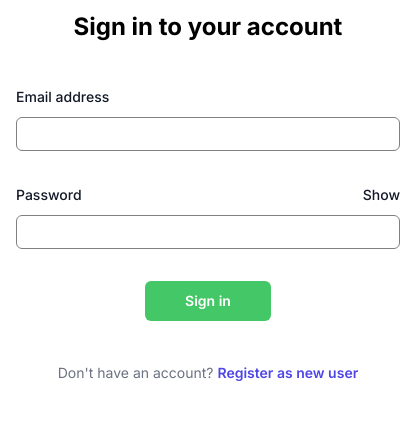
Scenario: Login › should display error message when invalid credentials are entered
In the field labelled "Email address": (208, 134) [16, 117, 400, 151], type "test@example.com"
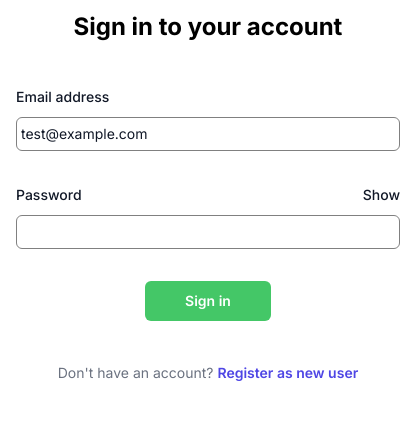
In the password field labelled "Password": (208, 232) [16, 215, 400, 249], type "password123"
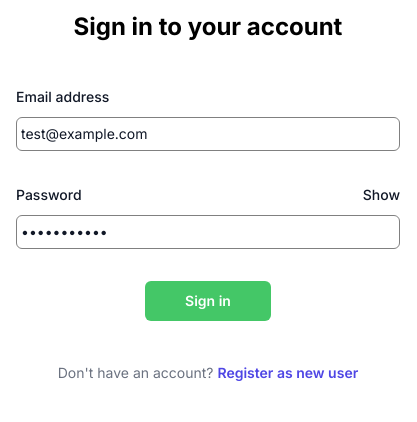
Click the button "Sign in": (208, 301) [145, 281, 271, 321]
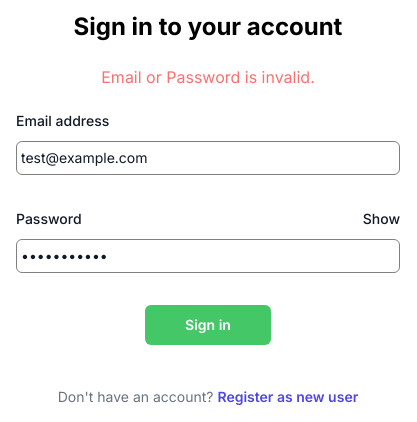
Expected: the text "Email or Password is invalid." is shown, [101, 67, 315, 87]
